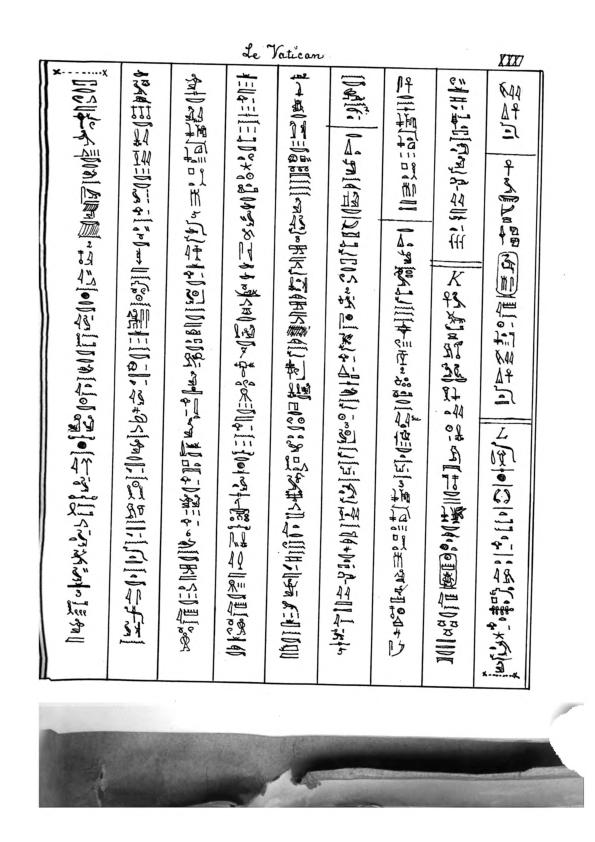circle: (493, 250, 521, 301), (436, 552, 460, 590)
